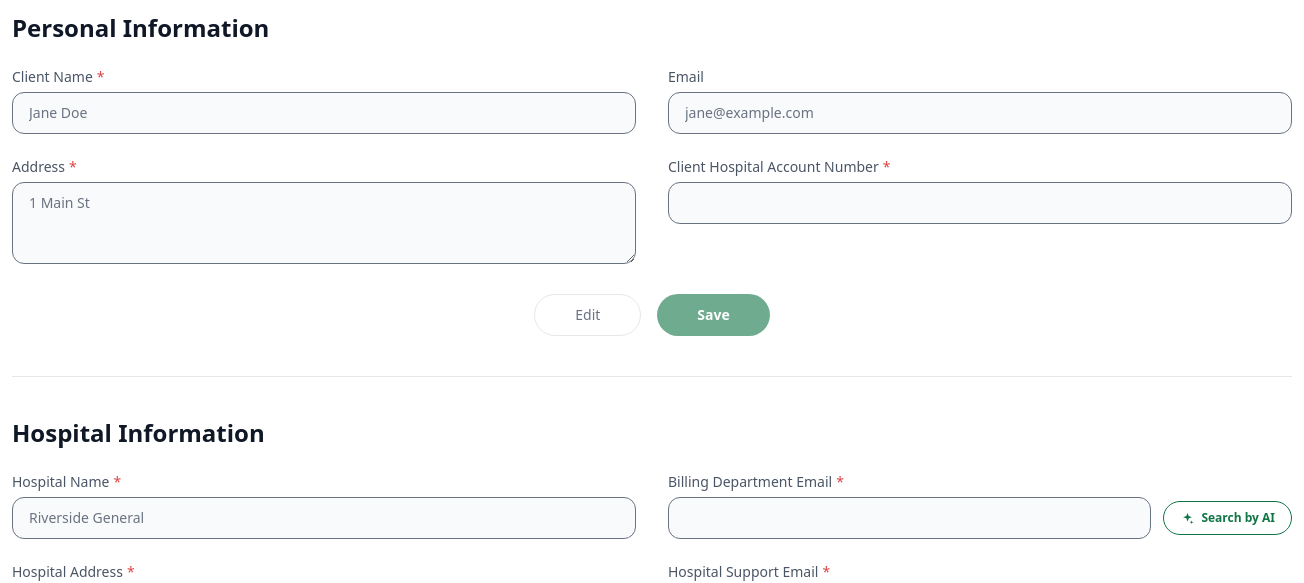
Scenario: CaseInformationStep › reports a lookup that isn't available, and still lets them type it
Click the 1st button "Search by AI".
click(1228, 518)  # box [1163,501,1292,535]
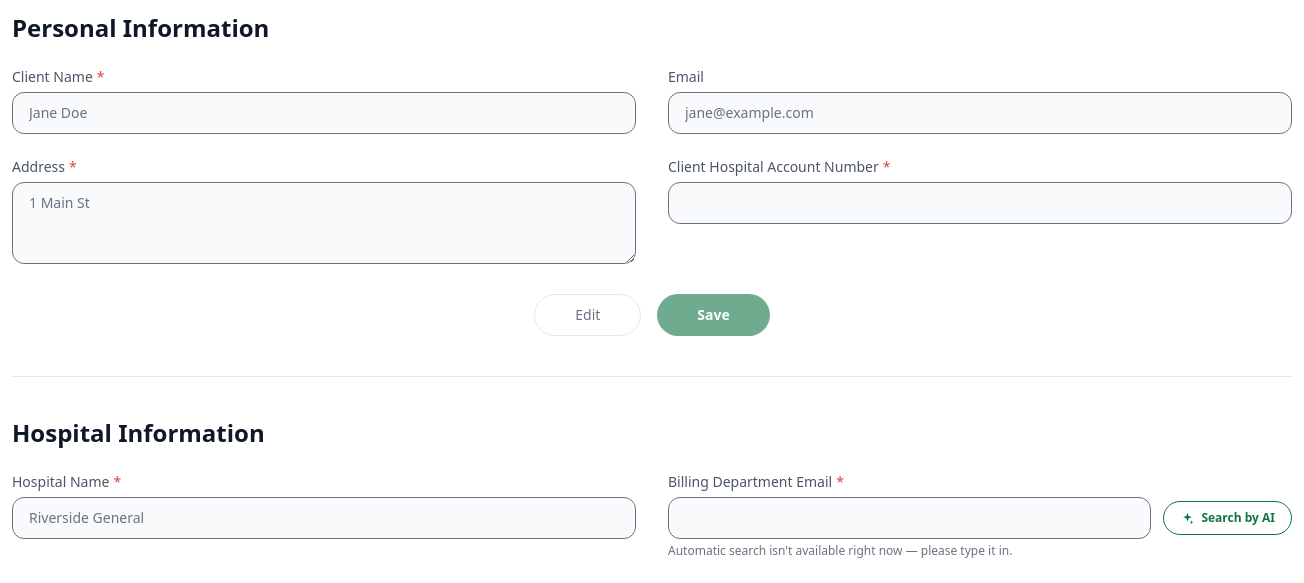
expect the field labelled "Billing Department Email*" is shown: met, box [668,497,1151,539]
expect the text "Automatic search isn't available right now" is shown: met, box [668,542,1012,559]
